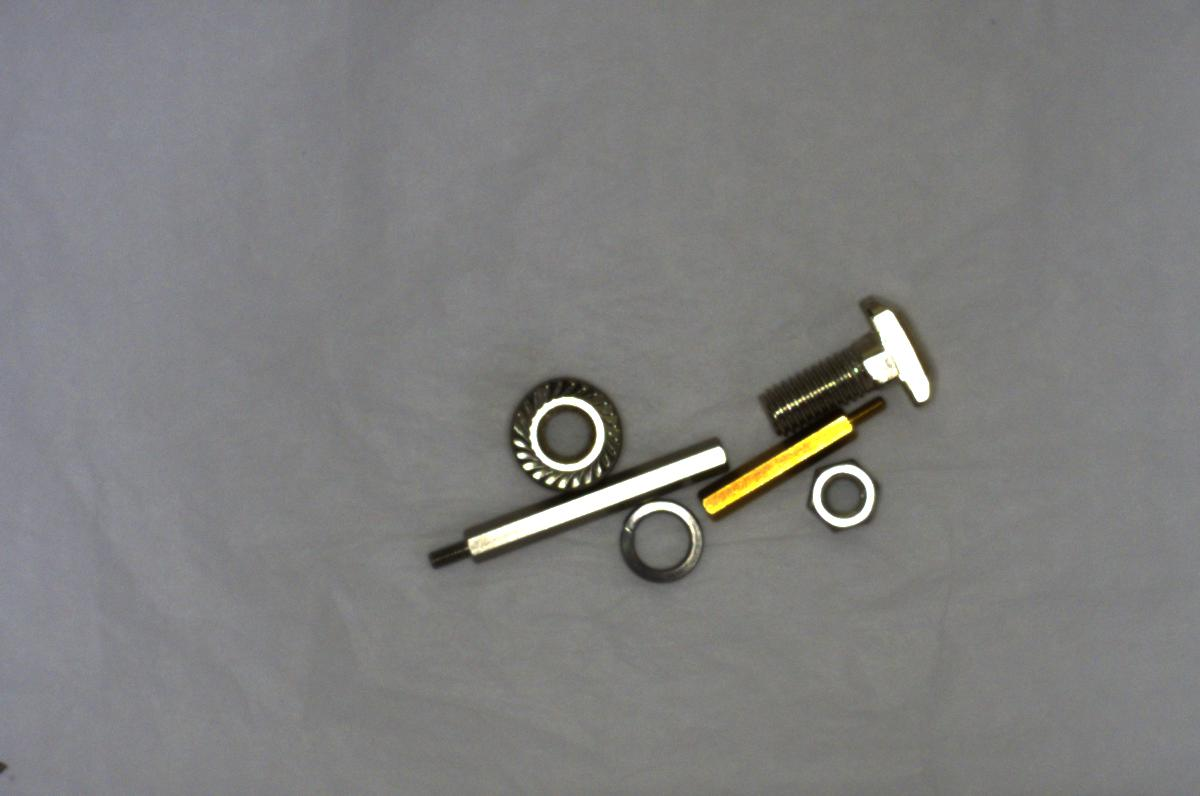Flange nut: (489, 365, 624, 491)
Hexagon nut: (807, 458, 883, 539)
Hexagon pillar: (694, 385, 891, 515)
Hexagonal steel column: (423, 431, 730, 582)
Spring washer: (615, 501, 707, 587)
T-shaped screw: (752, 285, 943, 435)
